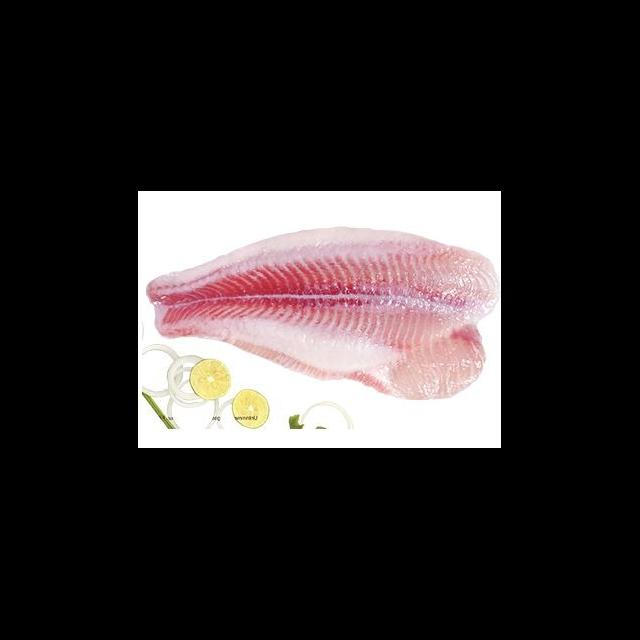fish: (138, 219, 502, 405)
